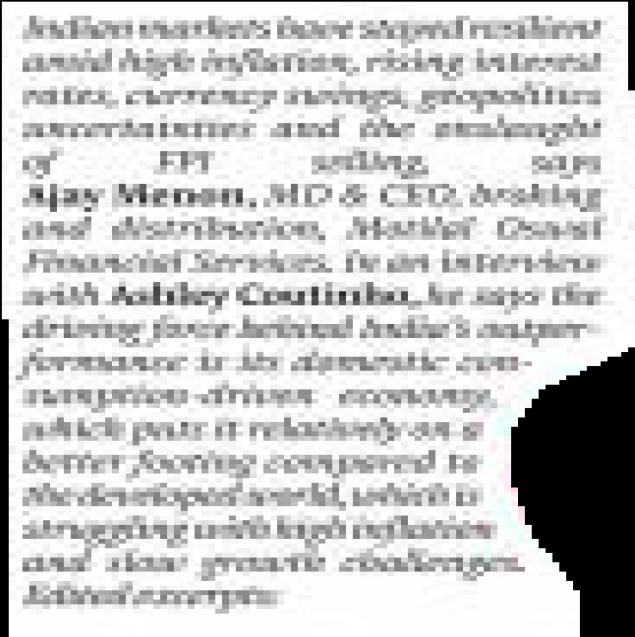paper: (1, 1, 635, 637)
